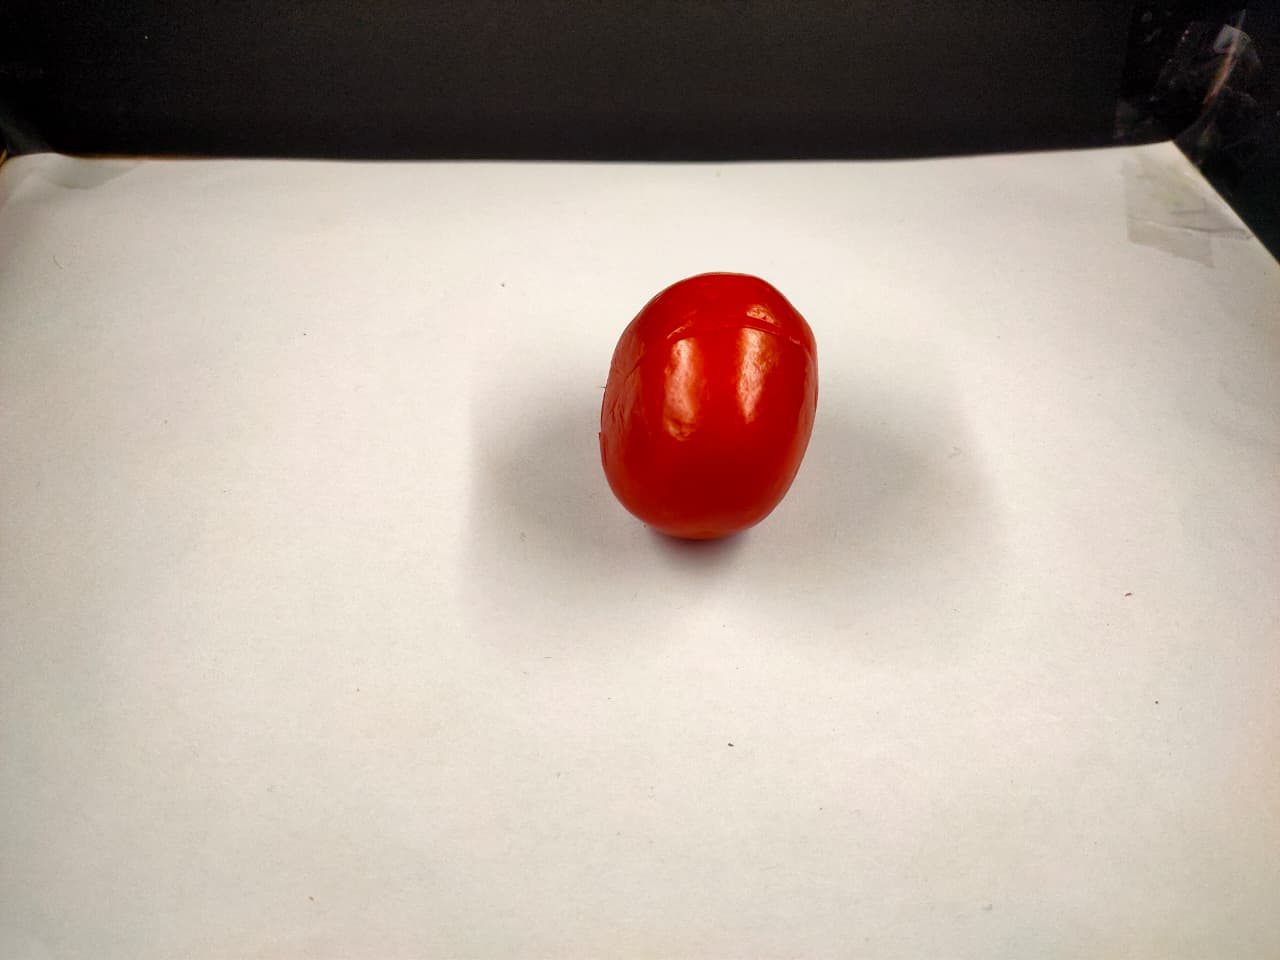damaged: (607, 262, 833, 566)
